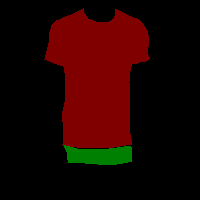abbigliamento: (44, 7, 150, 148)
mutande: (63, 145, 132, 165)
